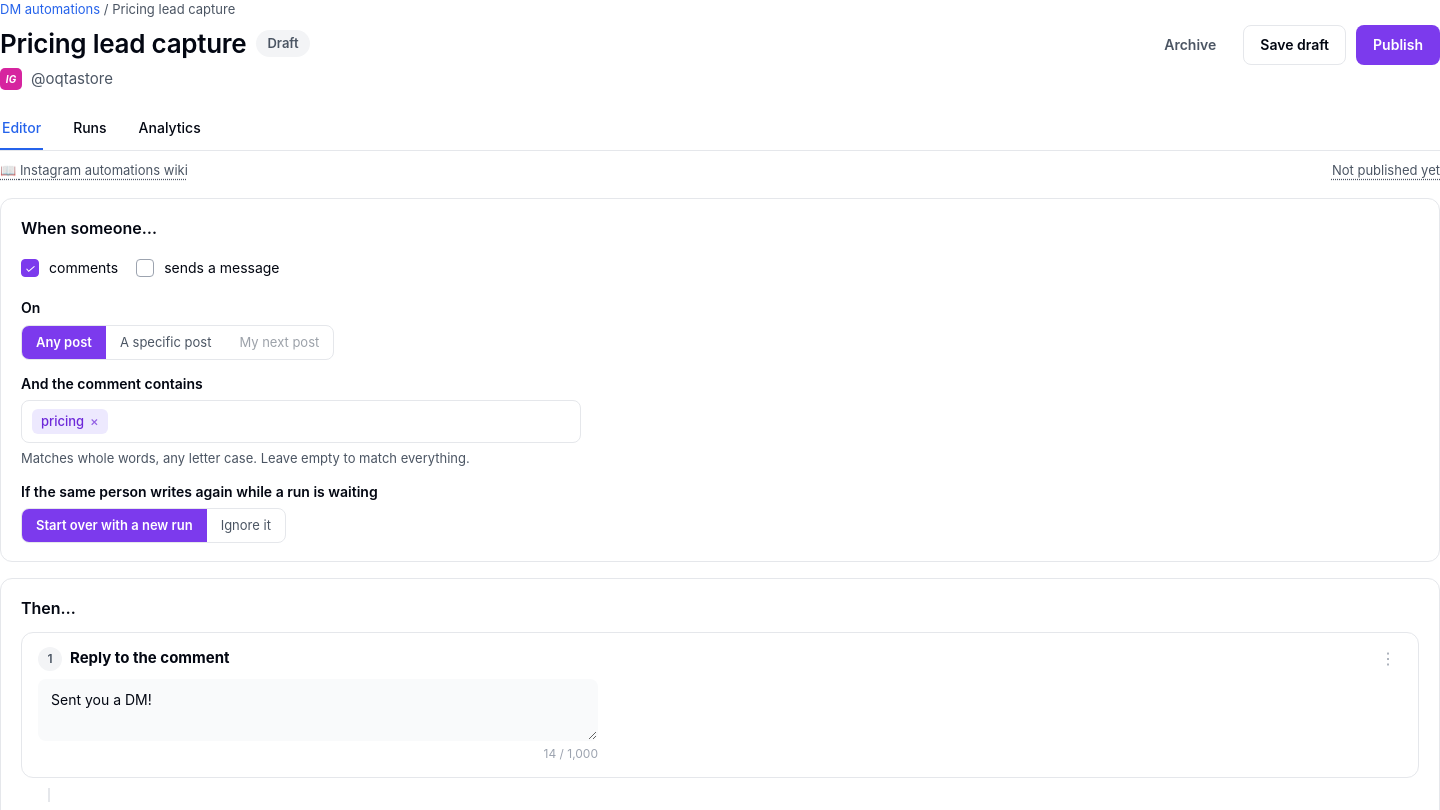
Test: editor page › shows the validation issues publishing returns inline
Check: the text "Not published yet" is shown, box [1332,161,1439,180]
Click the button "Publish" at (1398,45), box [1356,25,1439,65]
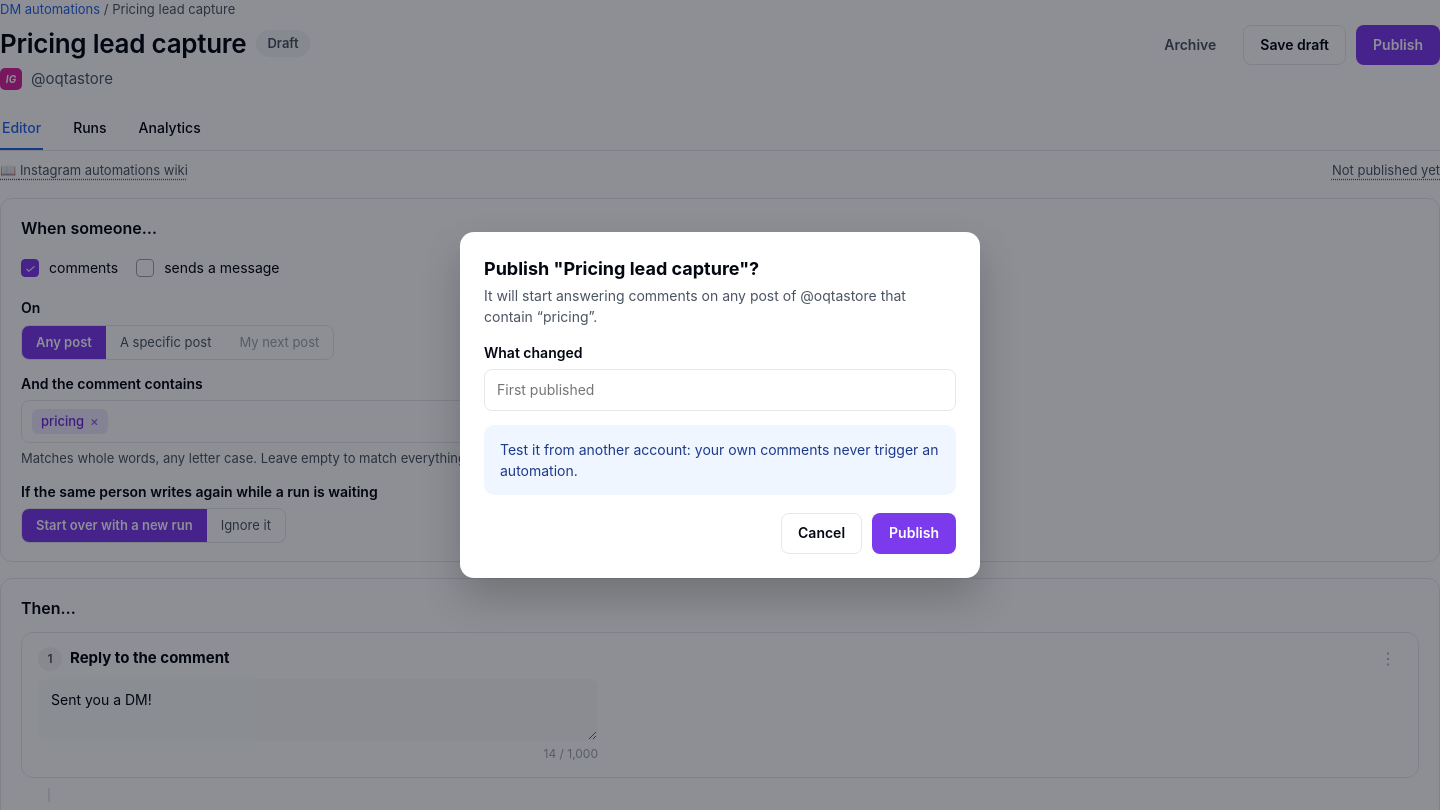
Click the button "Publish" at (914,534), box [872,514,956,554]
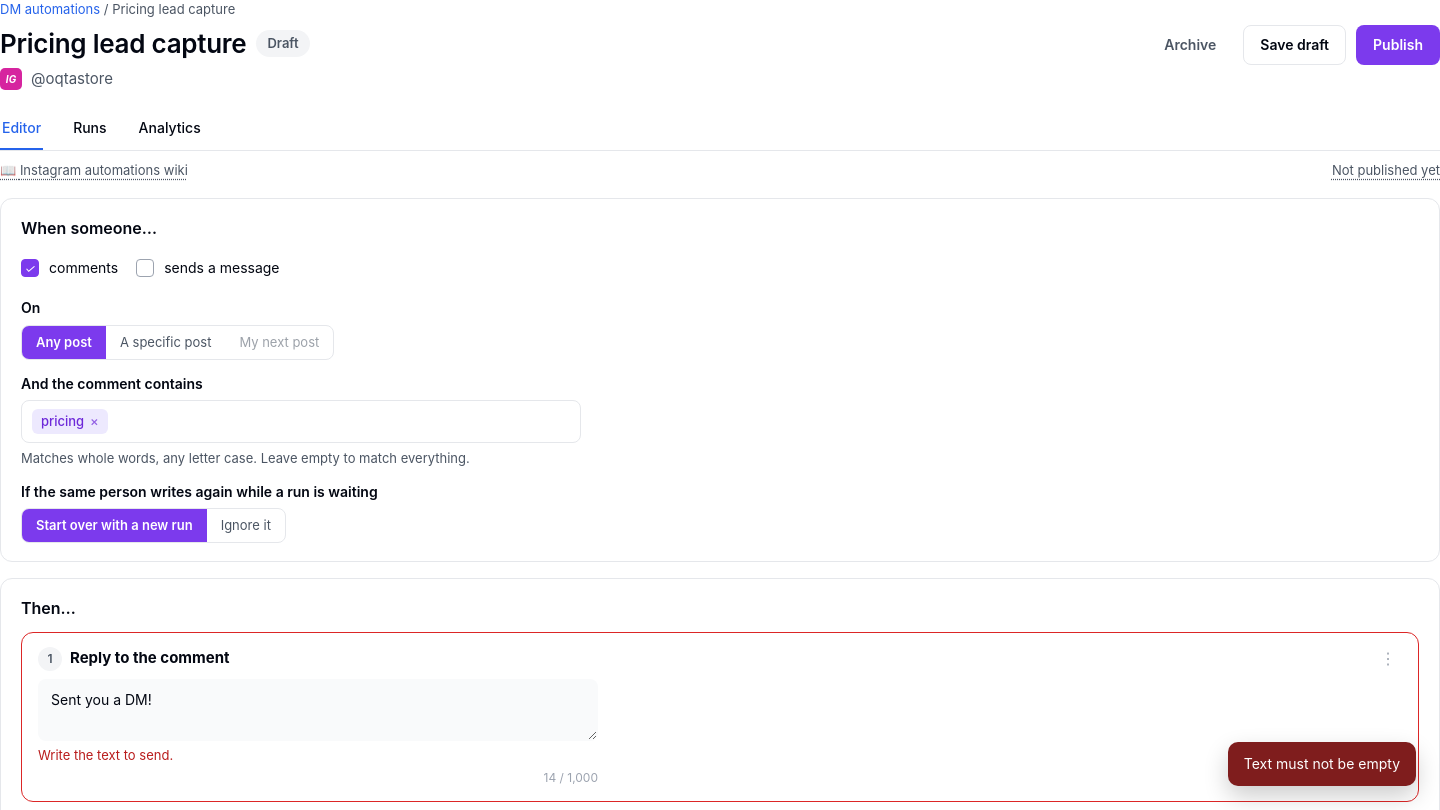
Check: the text "Write the text to send." is shown, box [38,748,173,764]
